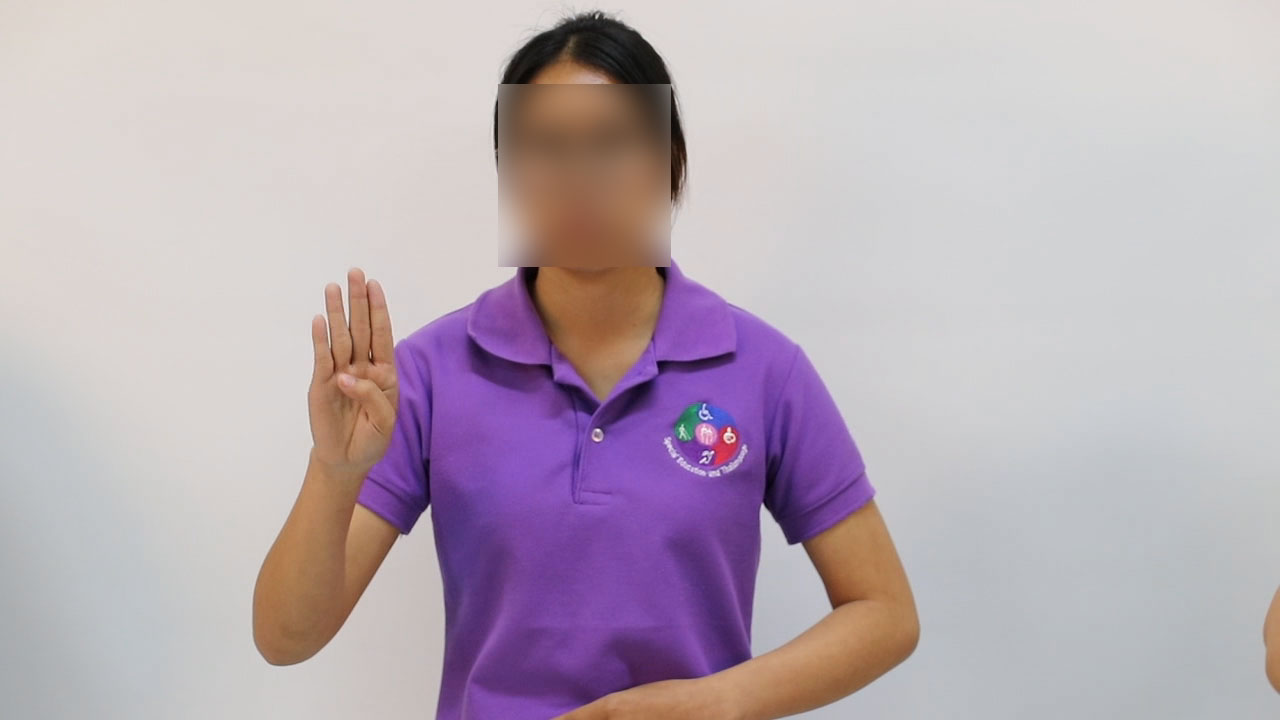bor: (292, 252, 410, 494)
